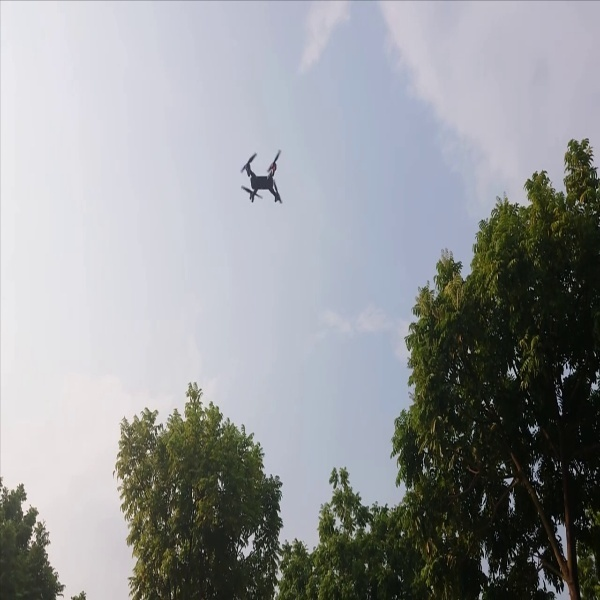drone: (231, 148, 290, 206)
